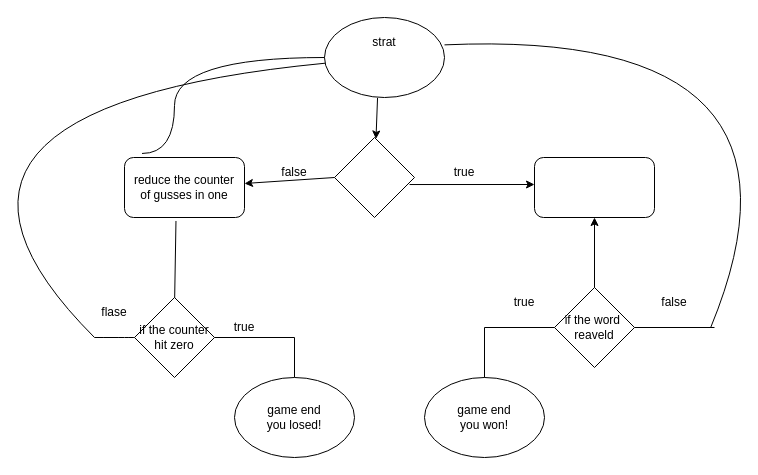
Some shapes in this 758 by 475 pixel diagram are drawn without their labels. Here are the shapes that lost their labels. From the top down, the box of each, then its label:
(324, 16, 444, 98): user_input
(334, 136, 414, 218): letter is right?
(534, 156, 654, 218): check the letter index in the word the show it the shown var
